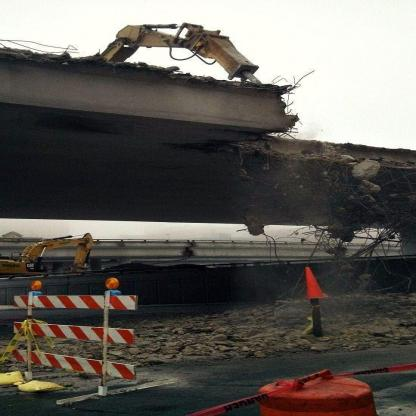rebar: (229, 139, 415, 220), (277, 216, 414, 304), (263, 63, 321, 141), (229, 224, 293, 263), (0, 37, 89, 55)
